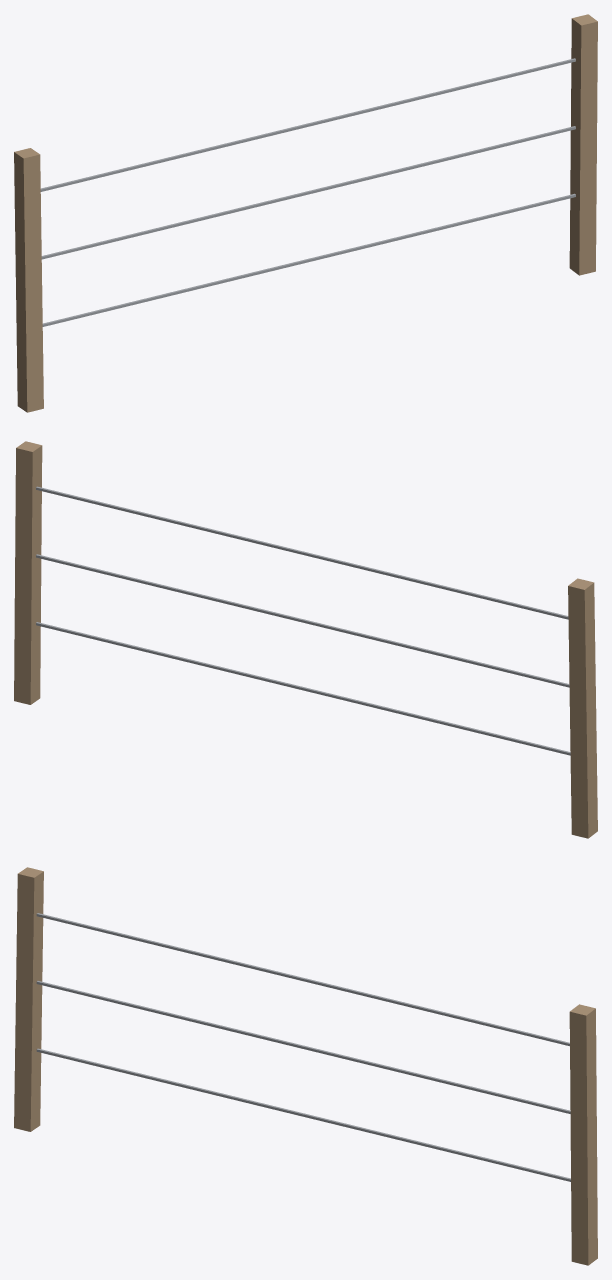
File: fence_wire.glb
The picture shows the model from 3 angles, top to bottom: view 1: azimuth 30°, elevation 25°; view 2: azimuth 150°, elevation 25°; view 3: azimuth 330°, elevation 25°; orthographic projection.
Parts seen in each view (by area): view 1: fence_wire; view 2: fence_wire; view 3: fence_wire.
Boxes of the visible parts, x1,y1,x2,y2 form: fence_wire: [14, 14, 597, 412]; fence_wire: [14, 441, 597, 838]; fence_wire: [14, 867, 597, 1265].
Size of the model in its own units: 3.09 by 1.3 by 0.1248.
